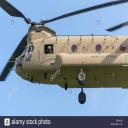helicopter: (1, 1, 128, 105)
